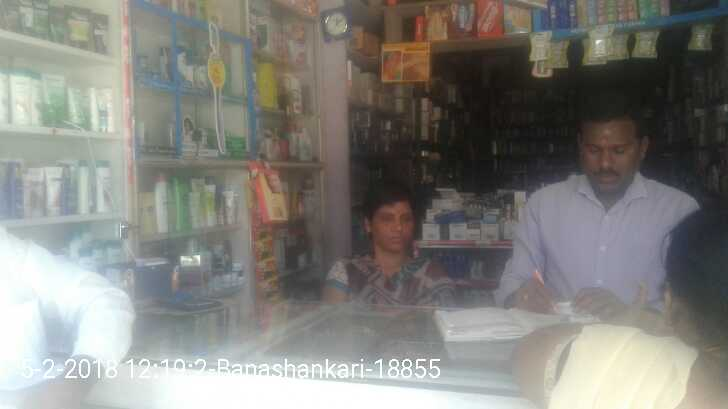beauty: (174, 46, 186, 83)
pharmacy: (151, 70, 162, 80)
